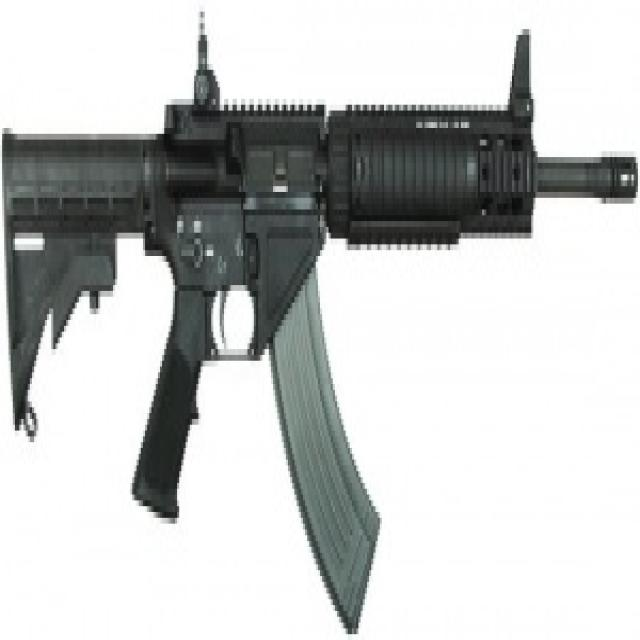rifle: (1, 7, 640, 640)
